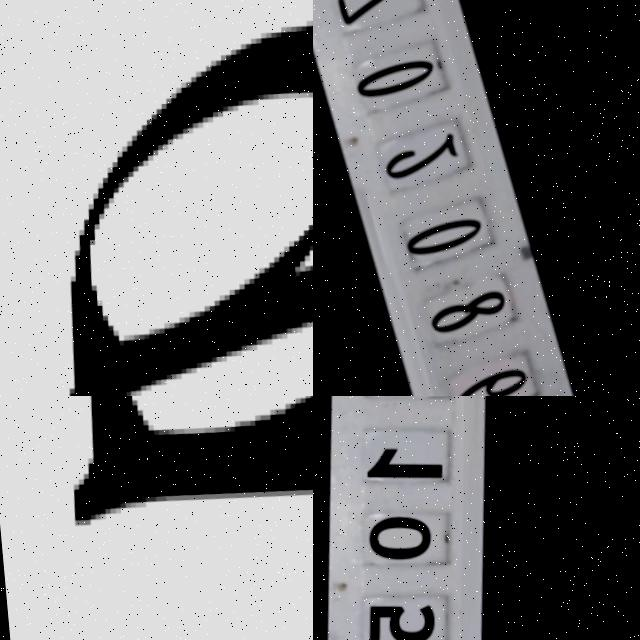0: (336, 40, 441, 122), (382, 199, 485, 281), (345, 508, 443, 576)
1: (353, 429, 446, 497)
2: (364, 122, 464, 203)
5: (348, 593, 439, 640)
6: (431, 353, 527, 396)
7: (319, 0, 422, 45)
8: (406, 278, 508, 357), (355, 396, 446, 411)
Q: (6, 0, 313, 396), (30, 396, 313, 589)
